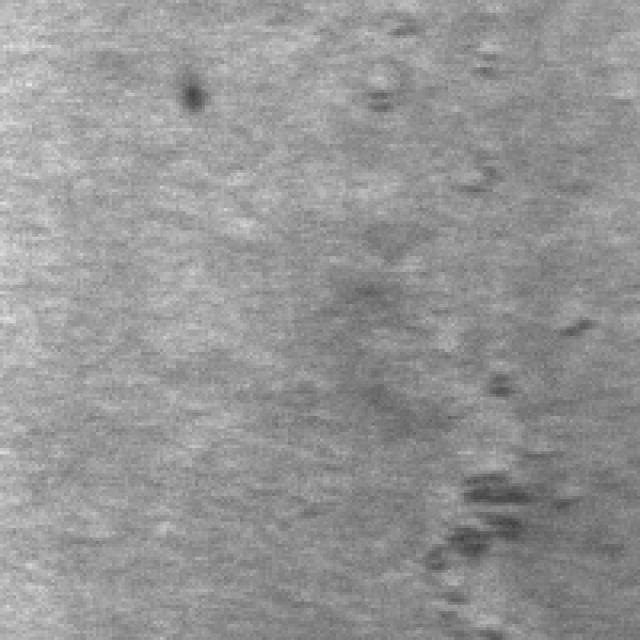rolled-in_scale: (428, 352, 586, 637), (371, 0, 512, 182)
